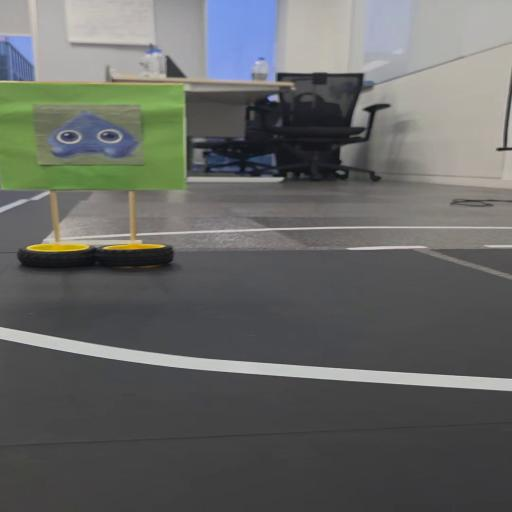Sign_B: (5, 76, 203, 276)
